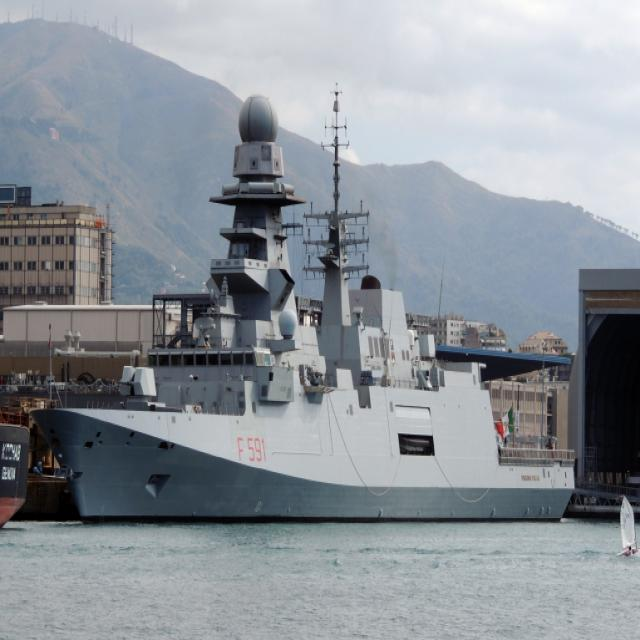Fragata: (34, 68, 586, 534)
